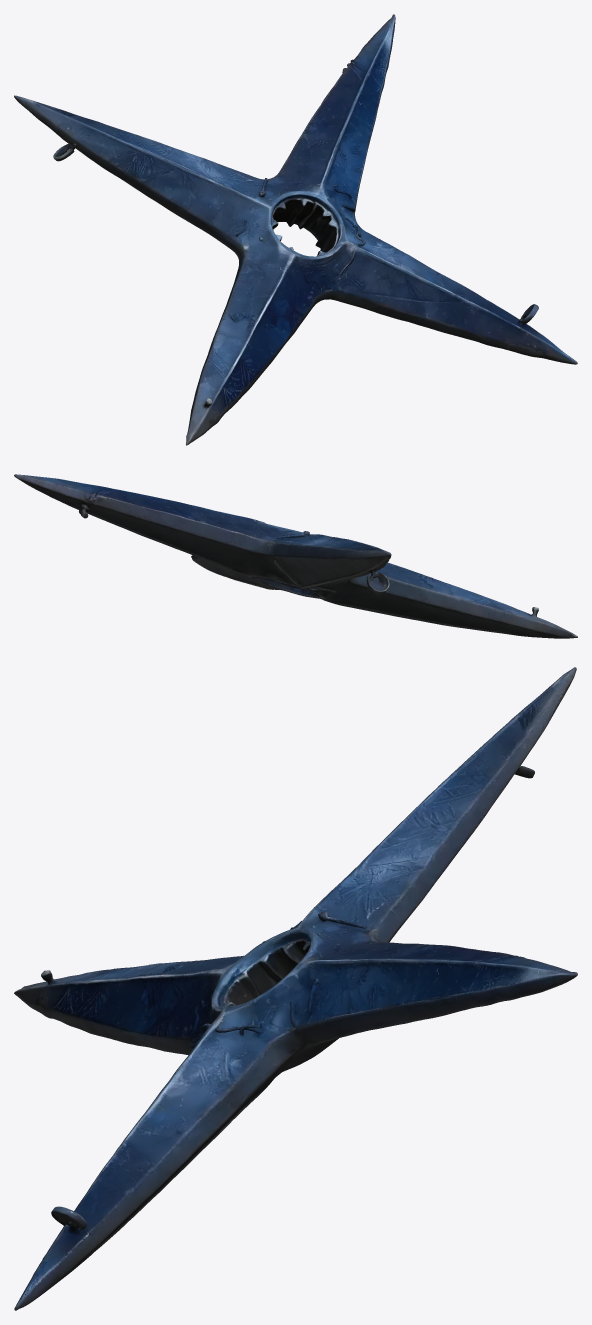
File: rn_stars.glb
The picture shows the model from 3 angles, top to bottom: view 1: azimuth 30°, elevation 25°; view 2: azimuth 150°, elevation 25°; view 3: azimuth 270°, elevation 25°; orthographic projection. The views are drawn at different scales.
Visible parts, largest first — view 1: tripo_node_8640c60b-9e43-43ac-922c-03006a7b2bb5; view 2: tripo_node_8640c60b-9e43-43ac-922c-03006a7b2bb5; view 3: tripo_node_8640c60b-9e43-43ac-922c-03006a7b2bb5.
Boxes of the visible parts, box(x1,y1,x2,y2) form: tripo_node_8640c60b-9e43-43ac-922c-03006a7b2bb5: box(14, 14, 577, 445); tripo_node_8640c60b-9e43-43ac-922c-03006a7b2bb5: box(14, 474, 577, 638); tripo_node_8640c60b-9e43-43ac-922c-03006a7b2bb5: box(14, 667, 577, 1310).
Size of the model in its own units: 0.9808 by 0.5488 by 0.7901.
1 material, 1 textured.
